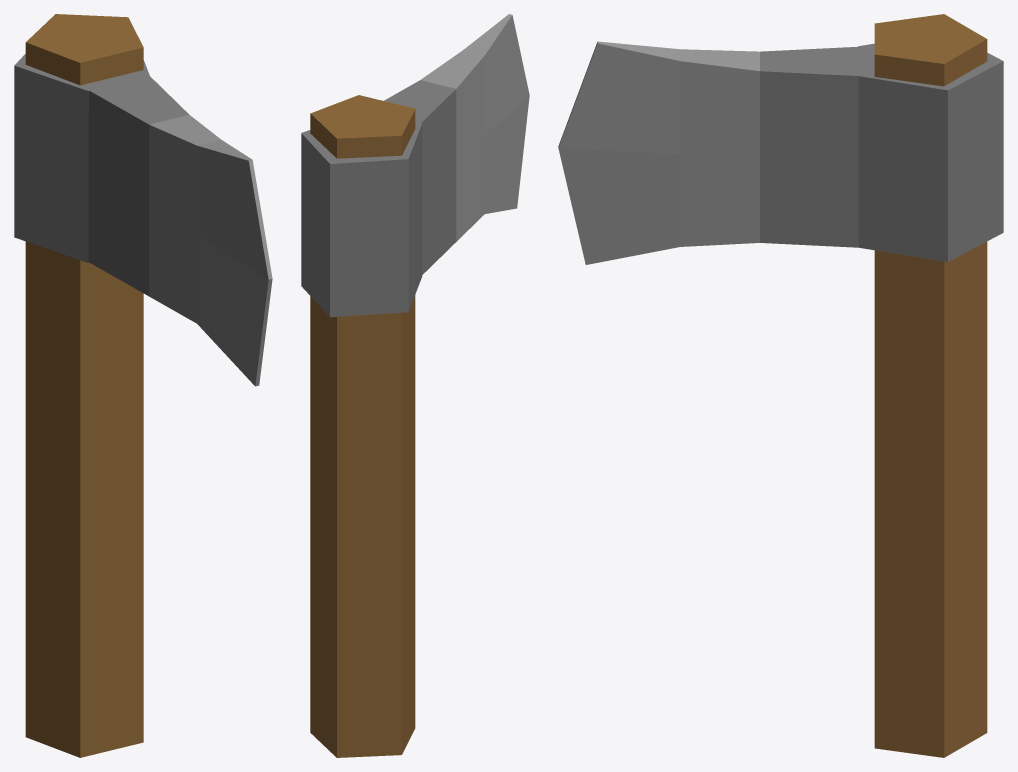
The model's file is Axe.fbx.
3 renders of one model, left to right at view 1: azimuth 30°, elevation 25°; view 2: azimuth 150°, elevation 25°; view 3: azimuth 270°, elevation 25°, orthographic. The views are drawn at different scales.
Visible parts, largest first — view 1: Cylinder; view 2: Cylinder; view 3: Cylinder.
Boxes of the visible parts, left/top/right/bottom form: Cylinder: left=14, top=14, right=272, bottom=757; Cylinder: left=301, top=14, right=529, bottom=757; Cylinder: left=558, top=14, right=1003, bottom=757.
Bounding box in the file's own units: 15.14 × 83.56 × 48.58.
